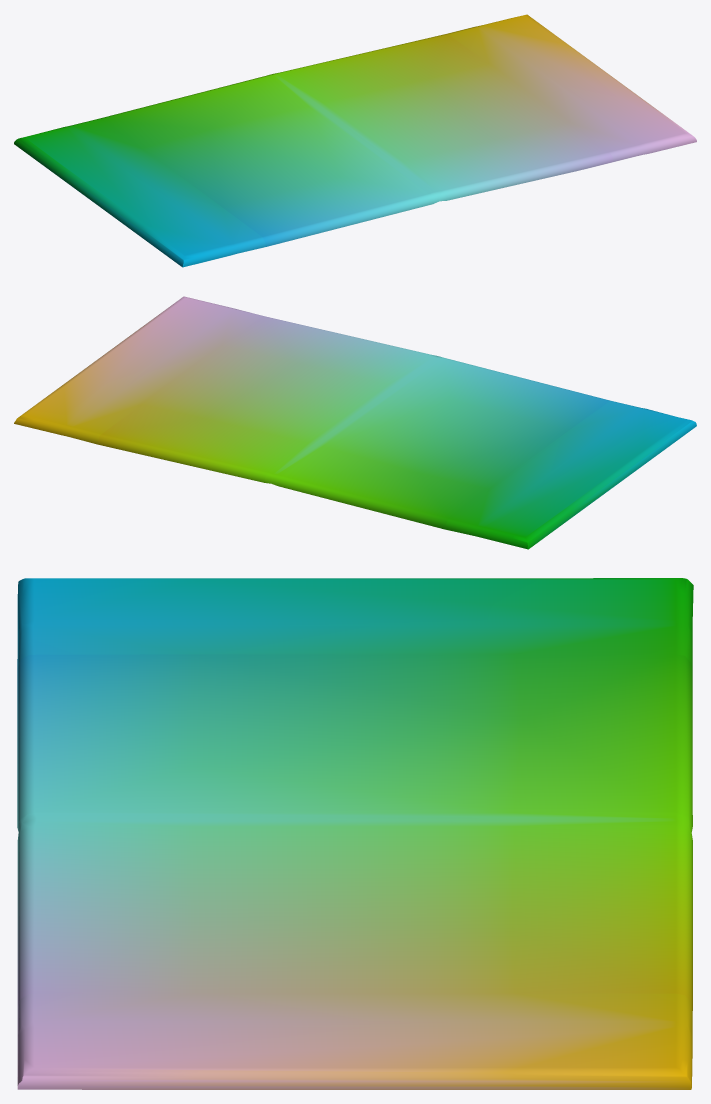
Rendered from SM_ROAD_37_20_0_0_road.FBX.
3 views of the same model, one above another, from view 1: azimuth 30°, elevation 25°; view 2: azimuth 150°, elevation 25°; view 3: azimuth 270°, elevation 25° (orthographic). The views are drawn at different scales.
Parts seen in each view (by area): view 1: SM_ROAD_37_20_0_0_road; view 2: SM_ROAD_37_20_0_0_road; view 3: SM_ROAD_37_20_0_0_road.
Boxes of the visible parts, left/top/right/bottom form: SM_ROAD_37_20_0_0_road: left=14, top=14, right=696, bottom=267; SM_ROAD_37_20_0_0_road: left=14, top=296, right=696, bottom=549; SM_ROAD_37_20_0_0_road: left=17, top=578, right=693, bottom=1089.
Size of the model in its own units: 3705 by 2109 by 68.14.
